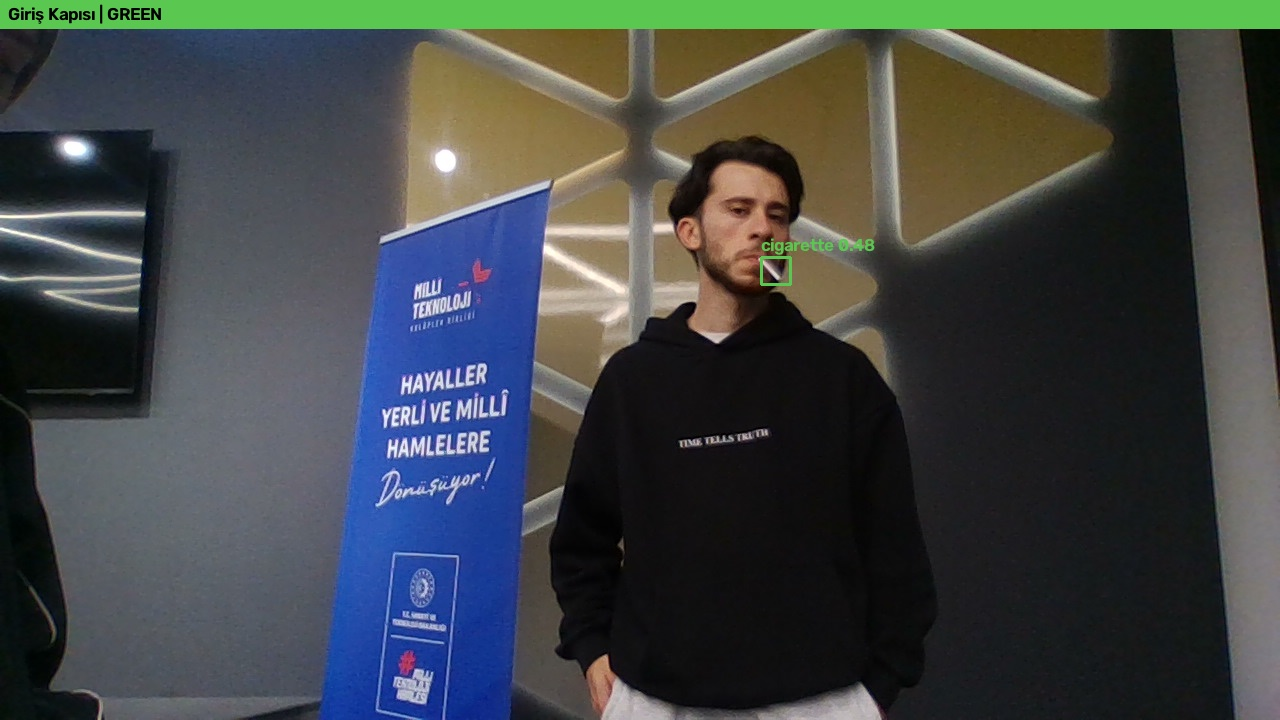cigarette: (310, 42, 555, 720)
